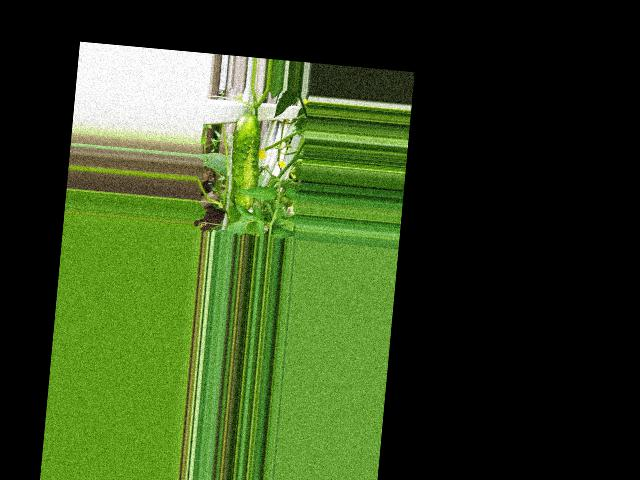cucumber: (226, 111, 262, 209)
